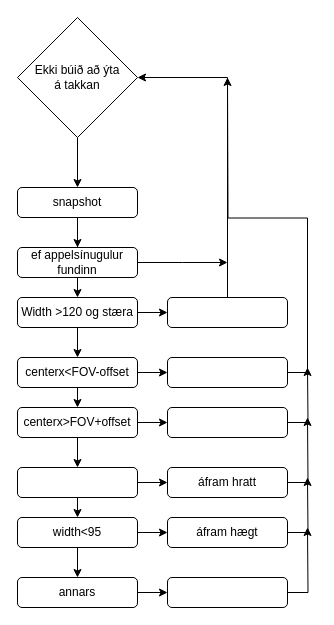
Image size: 334x625. Some labels were removed from this diagram. Here are the shapes that lost their labels. From the top down, the centre of each, then its label:
At point 227,312: "reverse".
At point 227,372: "vinstri".
At point 227,422: "hægri".
At point 77,482: "width<65".
At point 227,592: "stop og prenta fann það".
